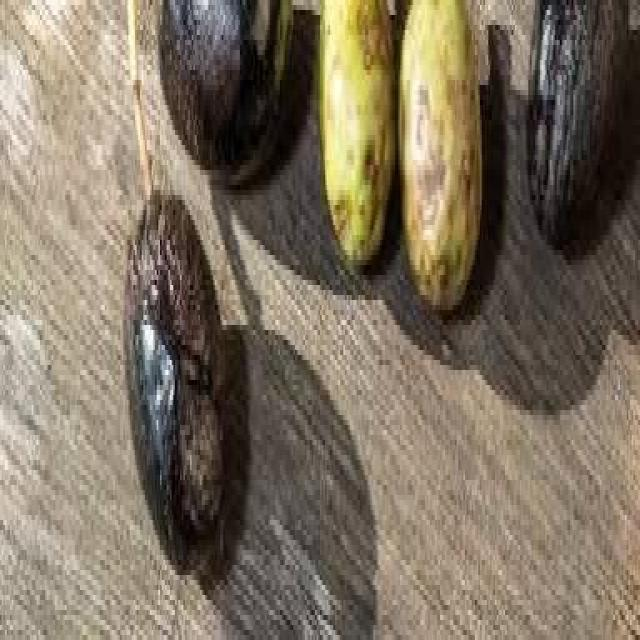Olive Fruit Fly: (123, 195, 228, 577), (402, 0, 480, 310), (318, 0, 395, 260)
